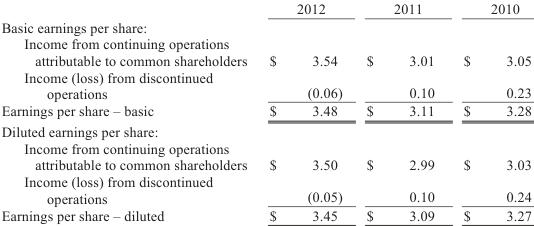table: (0, 0, 530, 222)
table column: (0, 0, 257, 222), (257, 0, 353, 222), (353, 0, 448, 222), (448, 0, 530, 222)
table column header: (0, 0, 530, 17)
table projected row header: (0, 120, 530, 139), (0, 17, 530, 35)
table row: (0, 68, 530, 102), (0, 172, 530, 206), (0, 35, 530, 68), (0, 139, 530, 172), (0, 120, 530, 139), (0, 17, 530, 35), (0, 102, 530, 120), (0, 0, 530, 17), (0, 206, 530, 222)
